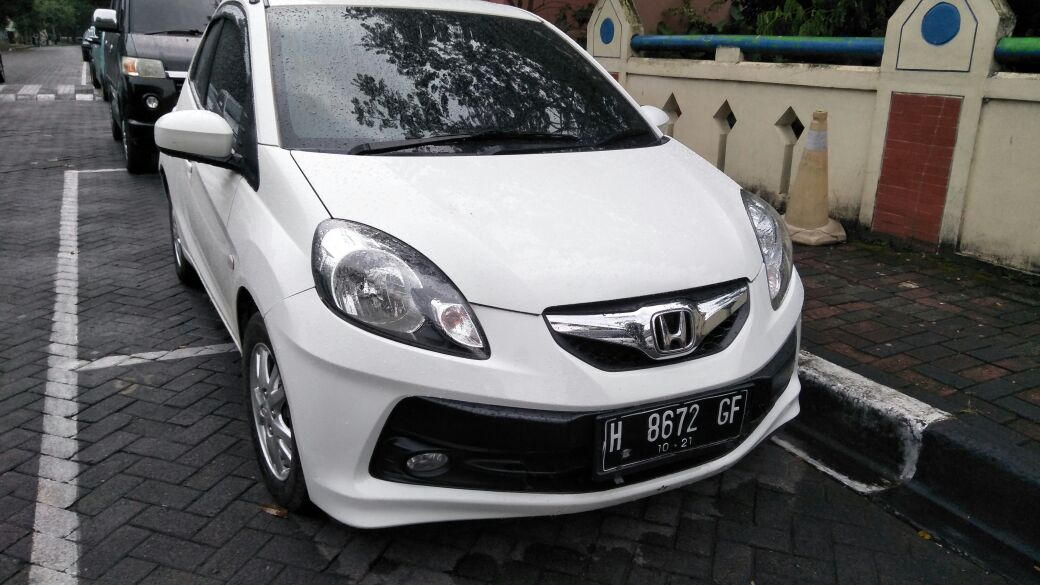plate: (602, 388, 745, 463)
